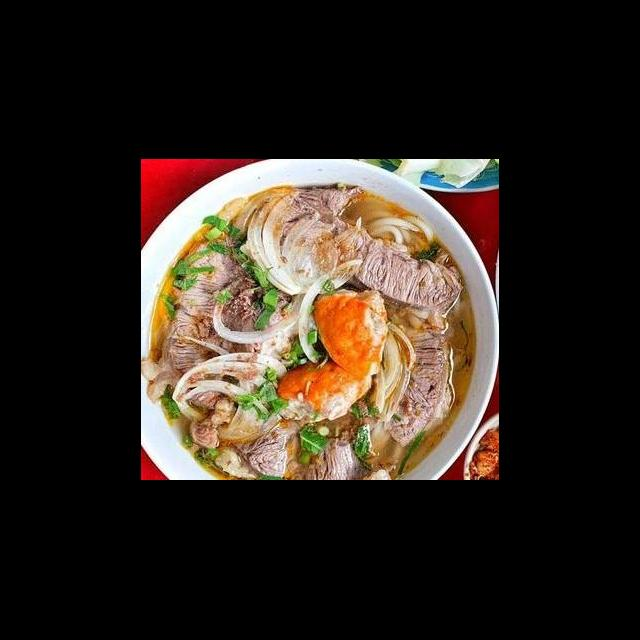bun: (357, 202, 436, 254)
bun bo: (144, 178, 495, 480)
thit bo: (157, 241, 252, 414), (324, 215, 468, 324), (217, 402, 375, 481), (247, 178, 365, 248)
